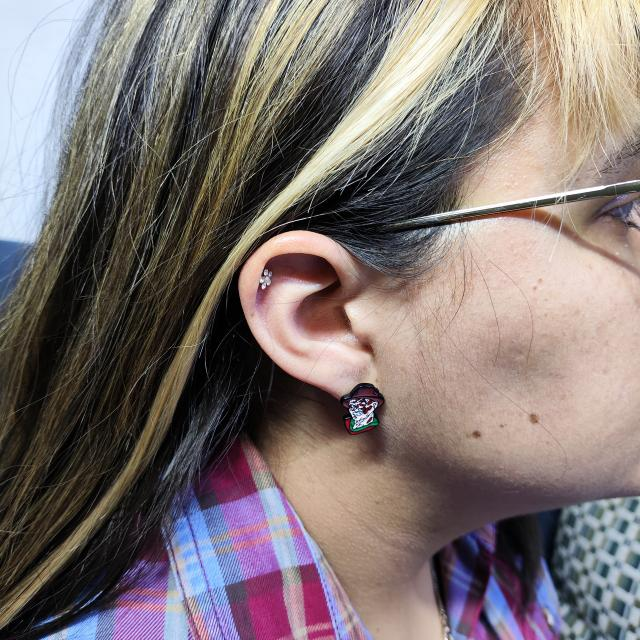ear: (239, 231, 391, 399)
